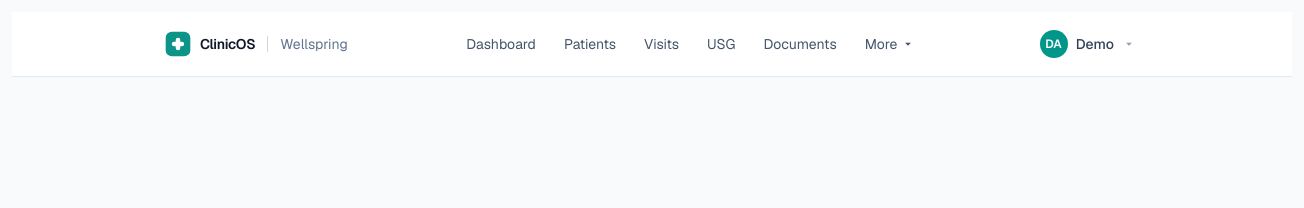
Test case: NavShell › shows both Settings and USG to a HOSPITAL_ADMIN whose centre has USG enabled
Click the button "More" at (890, 44), box [853,28,927,60]
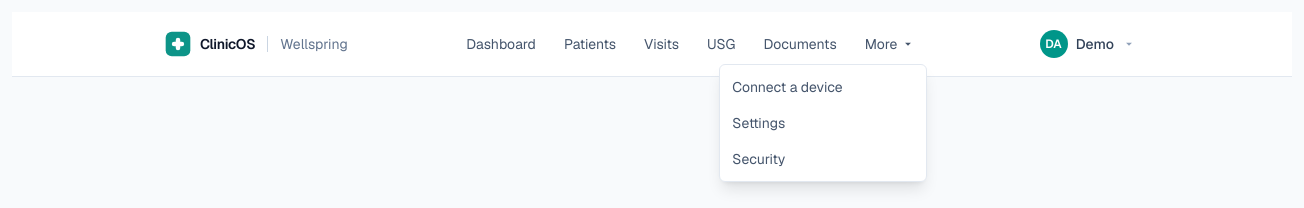
Expected: the link "USG" is shown, [707,35,735,53]
Now the link "Settings" is shown, box [732,114,785,132]
